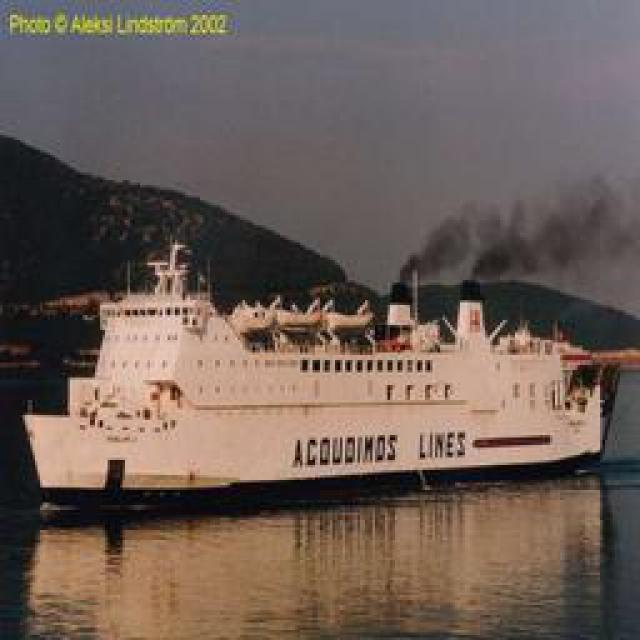Ship: (26, 265, 631, 518)
